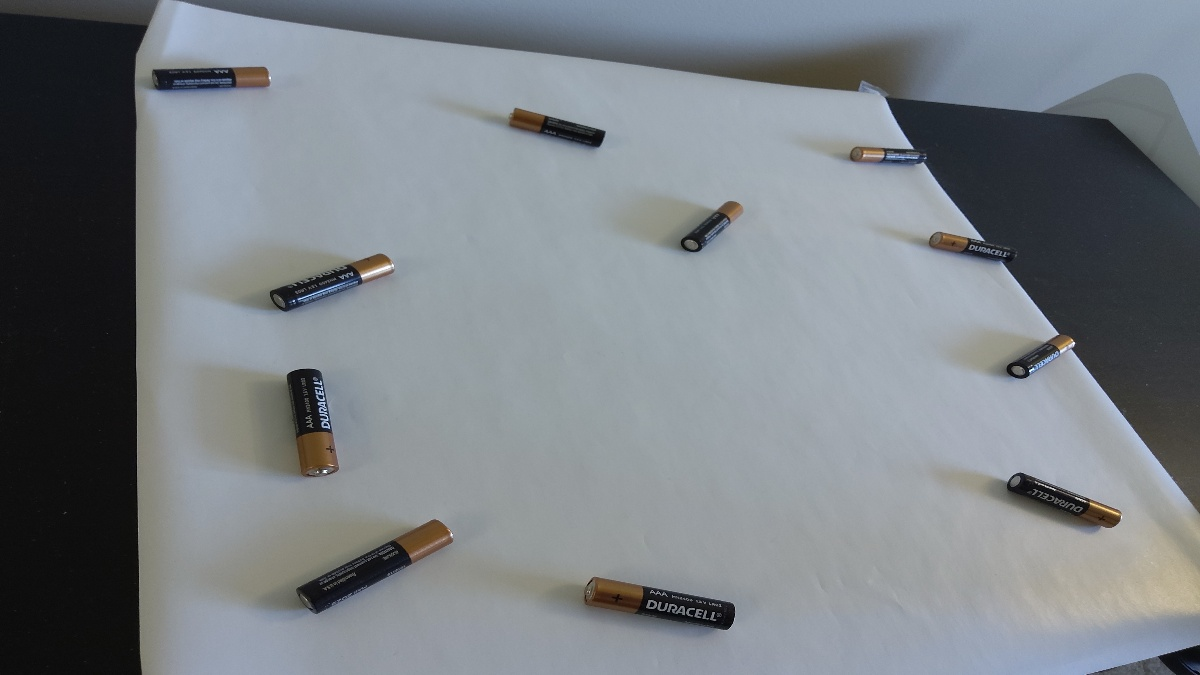battery: (272, 498, 465, 620), (577, 563, 744, 642), (257, 239, 406, 313), (1004, 468, 1138, 543), (272, 362, 348, 487), (502, 100, 615, 155), (149, 54, 285, 99), (676, 191, 761, 257), (1004, 316, 1080, 386), (926, 232, 1024, 274), (844, 133, 928, 178)
